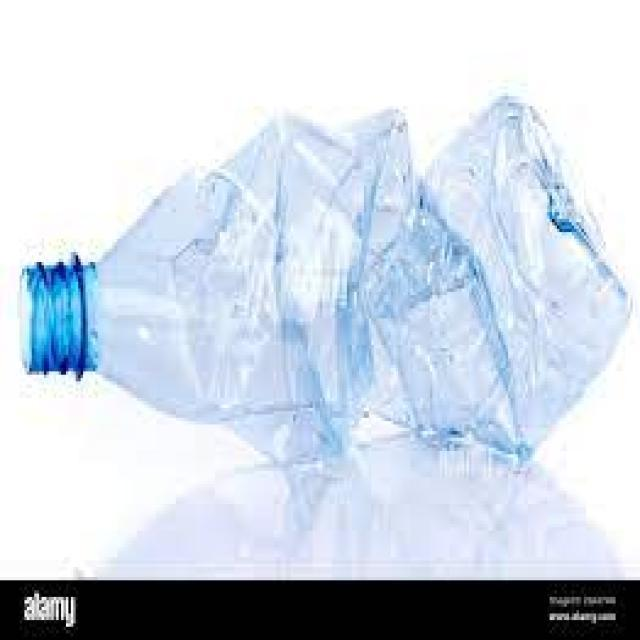defected: (14, 93, 640, 468)
